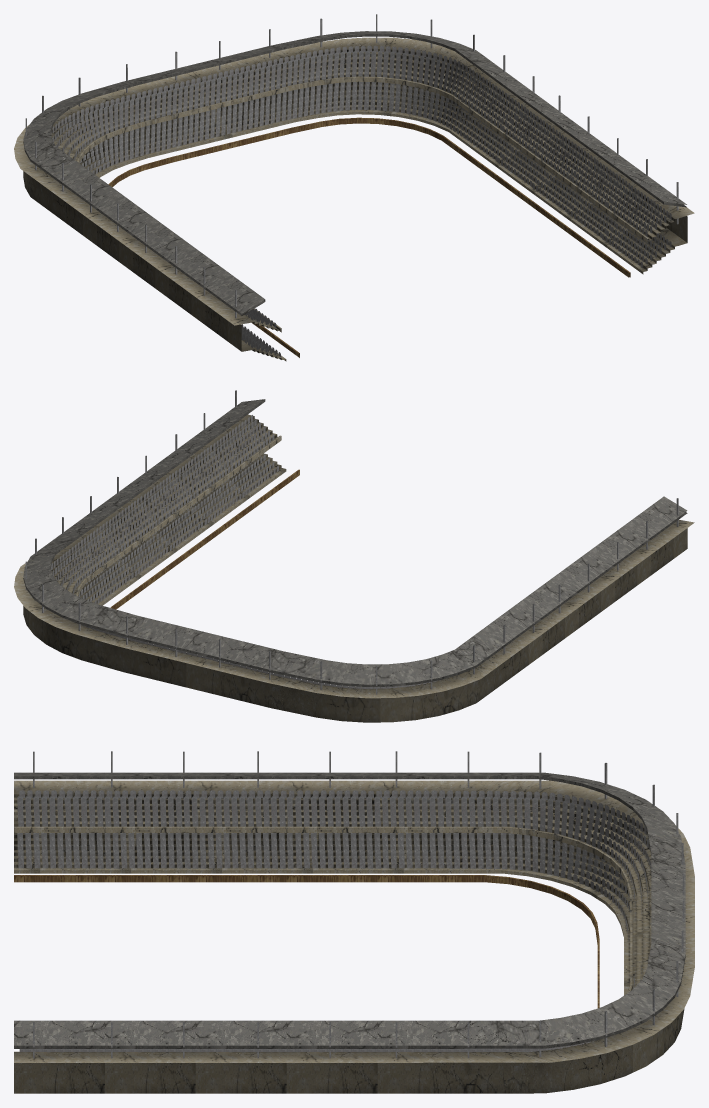
The model's file is Stadium_New.fbx.
3 views of the same model, one above another, from view 1: azimuth 30°, elevation 25°; view 2: azimuth 150°, elevation 25°; view 3: azimuth 270°, elevation 25° (orthographic). The views are drawn at different scales.
Visible parts, largest first — view 1: tribune; view 2: tribune; view 3: tribune.
Boxes of the visible parts, bbox=[...] form: tribune: bbox=[14, 14, 694, 361]; tribune: bbox=[14, 390, 694, 722]; tribune: bbox=[14, 751, 694, 1093].
Size of the model in its own units: 13269 by 2102 by 13540.
